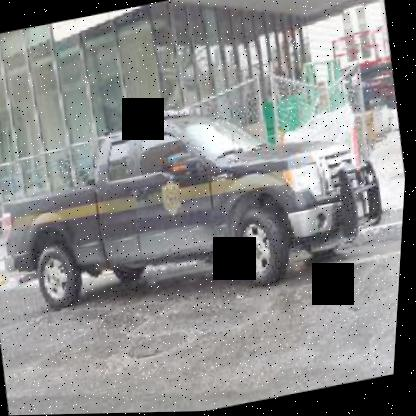emergency: (0, 67, 409, 340)
